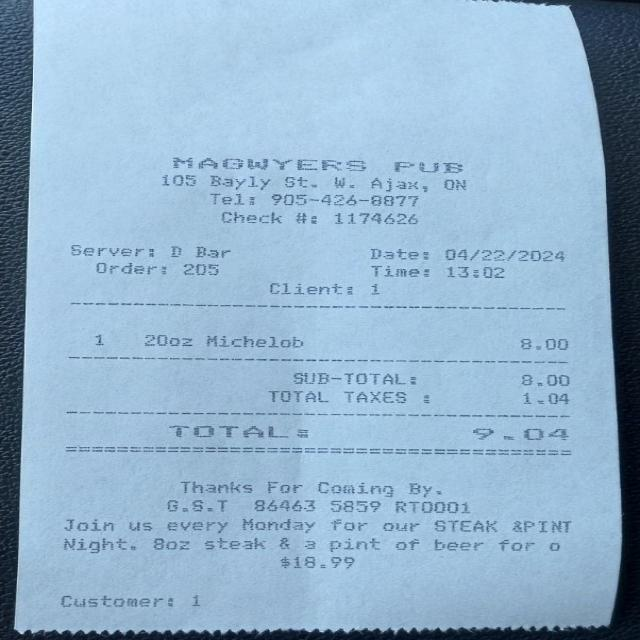item: (129, 328, 582, 359)
store_name: (161, 148, 480, 179)
total_amount: (150, 413, 584, 450)
transaction_date: (427, 240, 578, 266)
